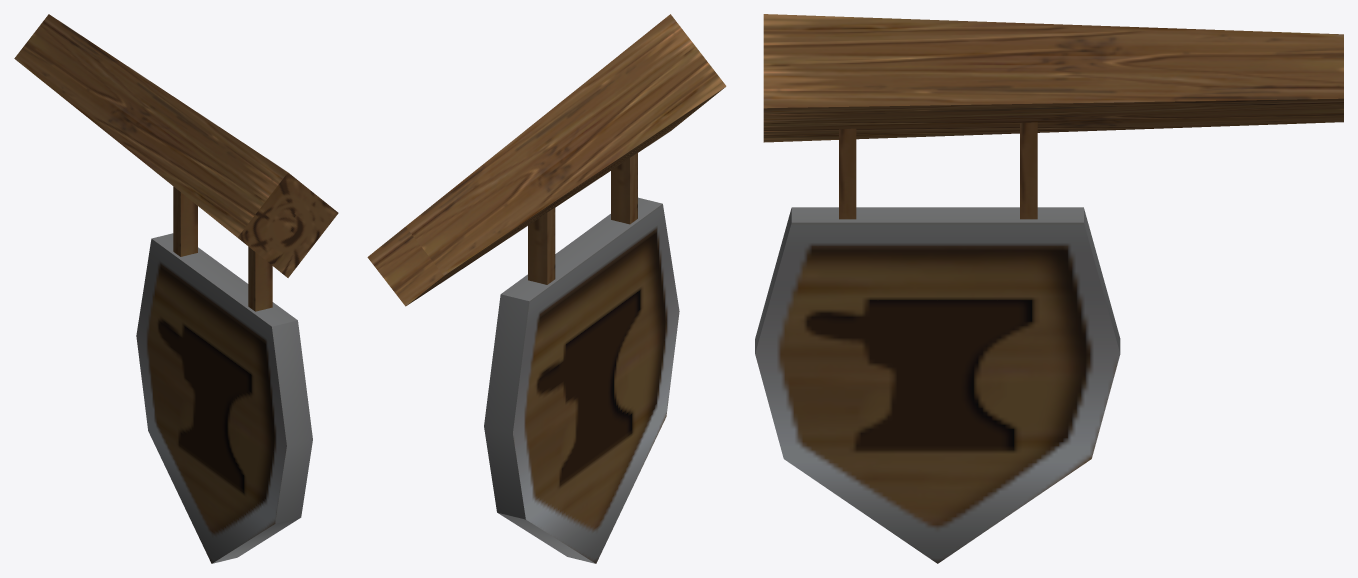
Rendered from fanasty_mod_sign03.fbx.
The picture shows the model from 3 angles, left to right: view 1: azimuth 30°, elevation 25°; view 2: azimuth 150°, elevation 25°; view 3: azimuth 270°, elevation 25°; orthographic projection. The views are drawn at different scales.
Parts seen in each view (by area): view 1: sign_03; view 2: sign_03; view 3: sign_03.
Part boxes in pixels (<box>): sign_03: <box>14,14,338,563</box>; sign_03: <box>367,14,726,563</box>; sign_03: <box>755,14,1343,563</box>.
Bounding box in the file's own units: 0.5703 × 2.38 × 2.37.
